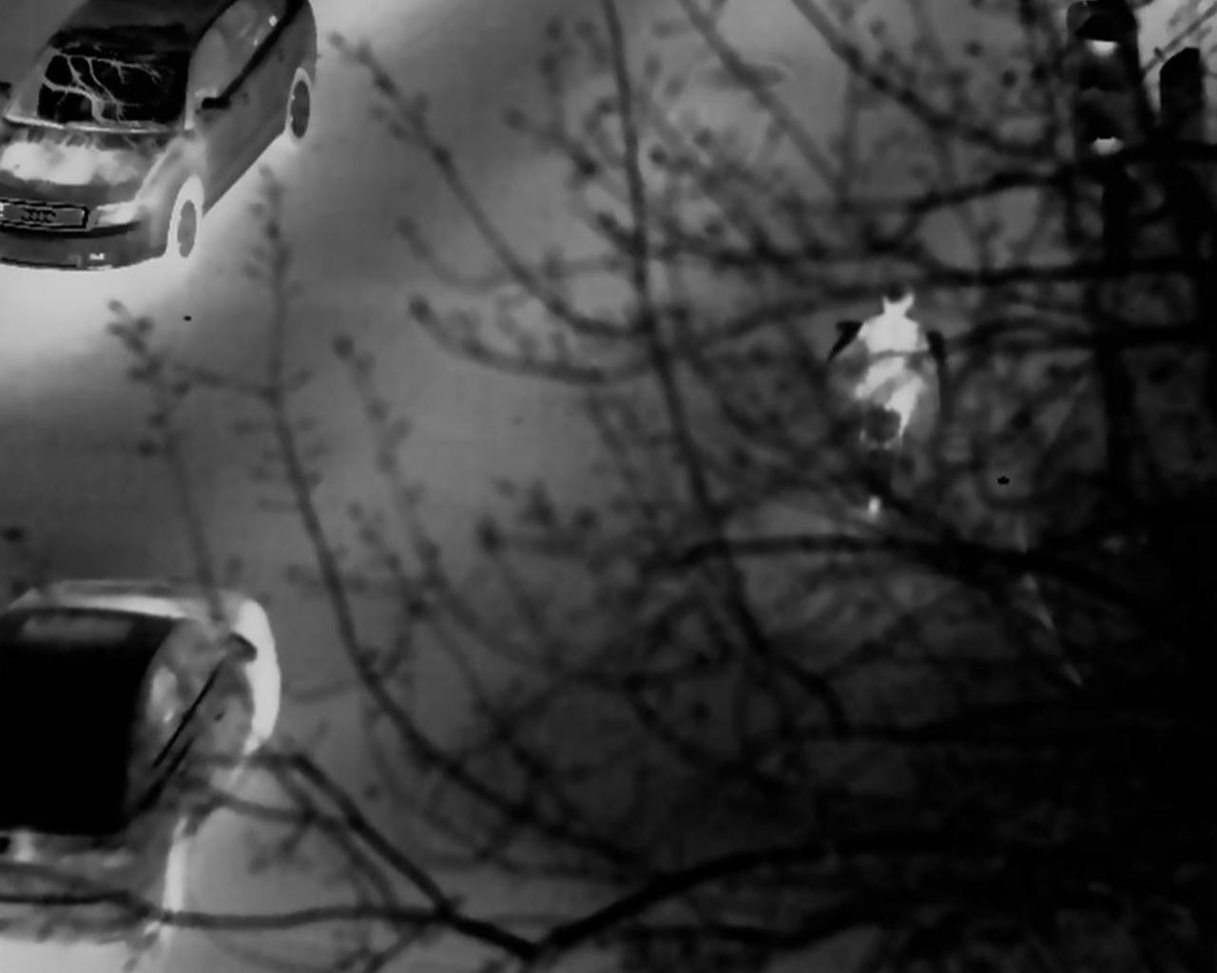person: (843, 280, 934, 517)
